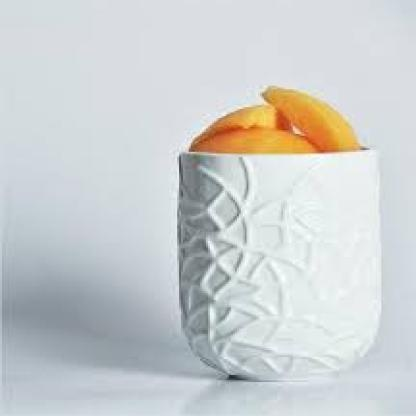trash: (179, 86, 380, 379), (179, 150, 380, 379)
